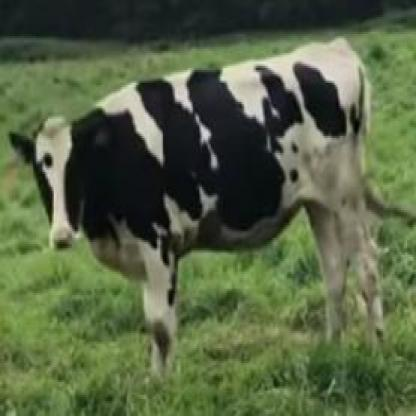cow: (11, 40, 387, 378)
